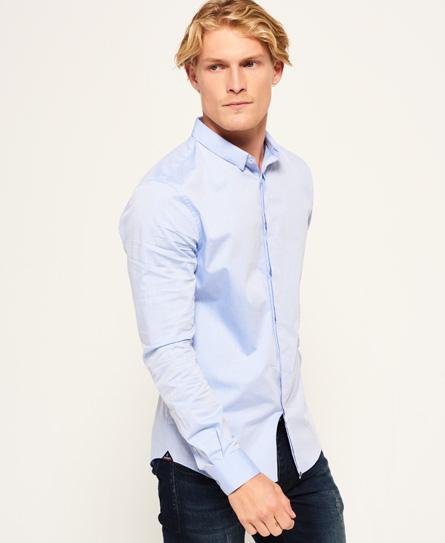teeshirt: (109, 114, 341, 494)
